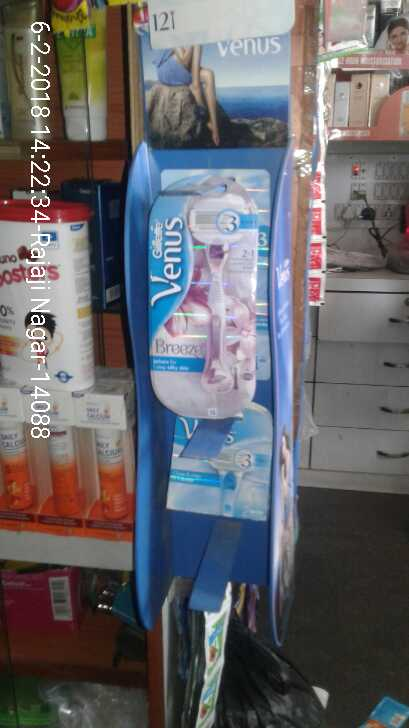beauty: (139, 181, 265, 404), (164, 411, 277, 524)
